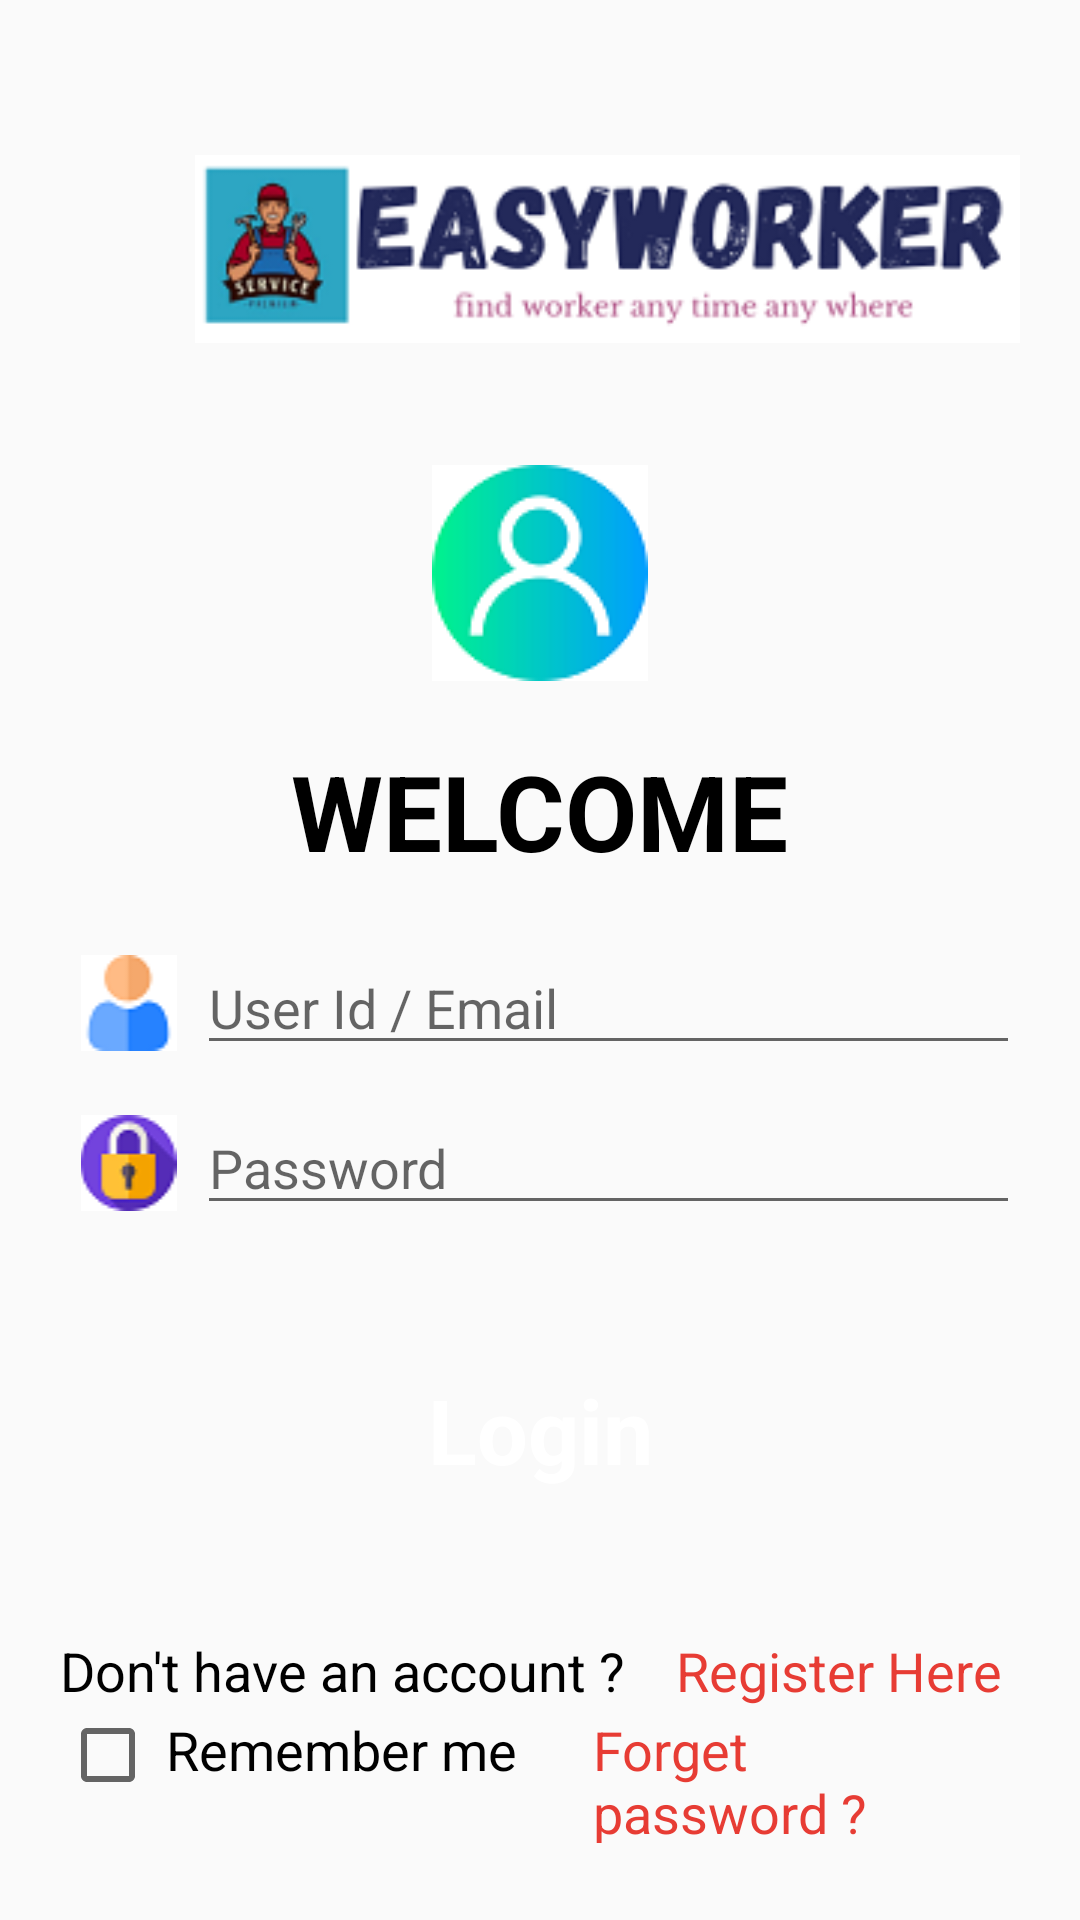

Locate icon controls on the screen. Image size 1080px x 1920px, boxes as bbox(x1, y1, x2, y2).
padlock: bbox(81, 1115, 177, 1211)
